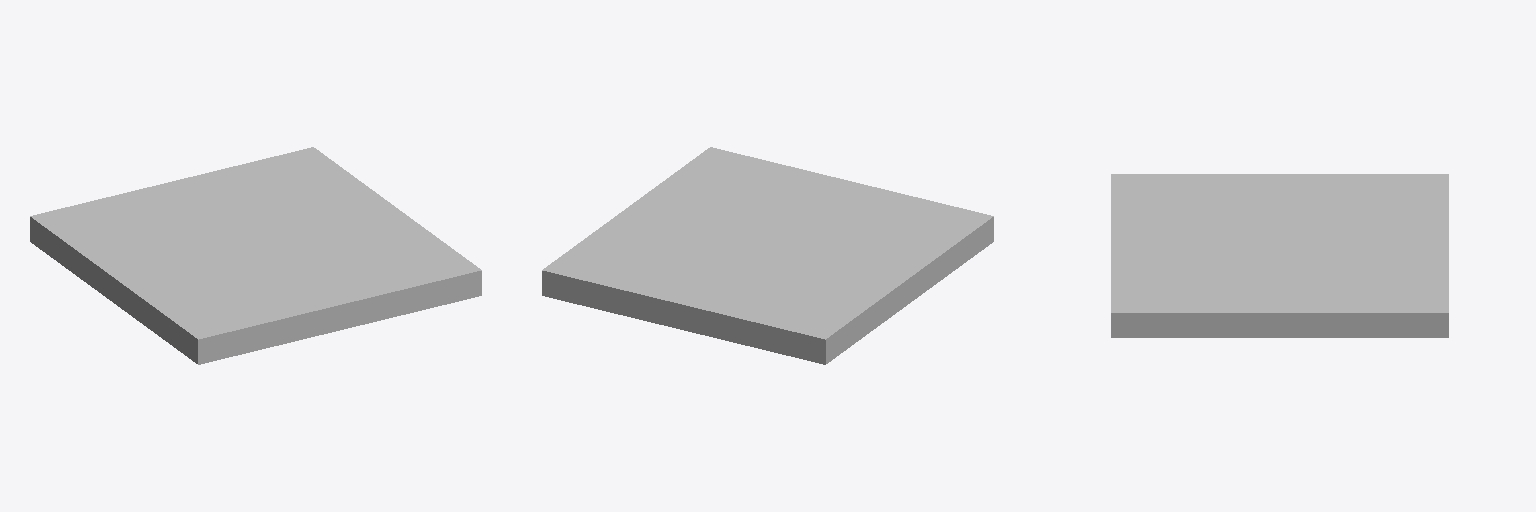
The model's file is rua duplicada.obj.
3 views of the same model, side by side, from view 1: azimuth 30°, elevation 25°; view 2: azimuth 150°, elevation 25°; view 3: azimuth 270°, elevation 25° (orthographic).
Visible parts, largest first — view 1: object 1; view 2: object 1; view 3: object 1.
Boxes of the visible parts, box(x1,y1,x2,y2) form: object 1: box(30, 147, 481, 364); object 1: box(542, 147, 993, 364); object 1: box(1111, 174, 1448, 337).
Bounding box in the file's own units: 3.5 × 0.3 × 3.6.